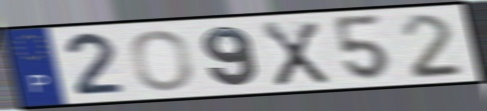2: (61, 30, 132, 98), (399, 12, 467, 81)
5: (330, 13, 394, 85)
9: (199, 23, 262, 90)
O: (128, 28, 196, 93)
X: (258, 20, 332, 89)
